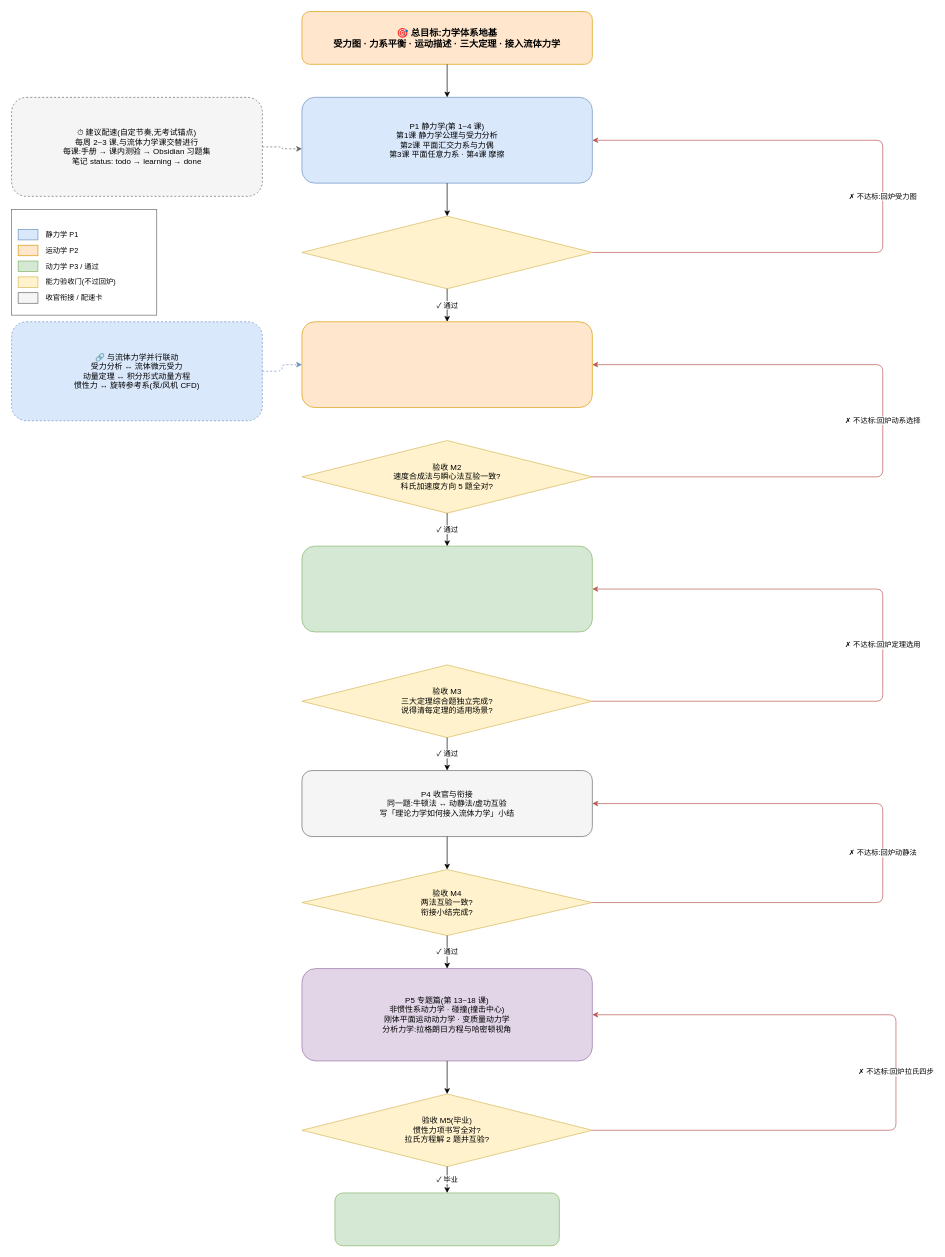
The diagram is 945 pixels wide and 1257 high, and some of its shapes have lost their labels. The box of each missing label's shape, as (x1, y1, x2, y2) in pixels:
P2 运动学(第 5~8 课) 第5课 点的运动学 · 第6课 刚体基本运动 第7课 点的合成运动(科氏加速度) 第8课 刚体平面运动(瞬心法): (301, 321, 592, 408)
P3 动力学(第 9~12 课) 第9课 质点动力学与动量定理 第10课 动量矩定理 · 第11课 动能定理 第12课 达朗贝尔原理与虚位移: (301, 545, 592, 632)
图例: (11, 209, 157, 315)
验收 M1 受力图 10 分钟全对? 平衡方程 5 题全对?: (301, 215, 592, 289)
🎓 力学地基建成 流体力学 · 材料力学 · 振动 一路通行: (334, 1192, 559, 1246)
